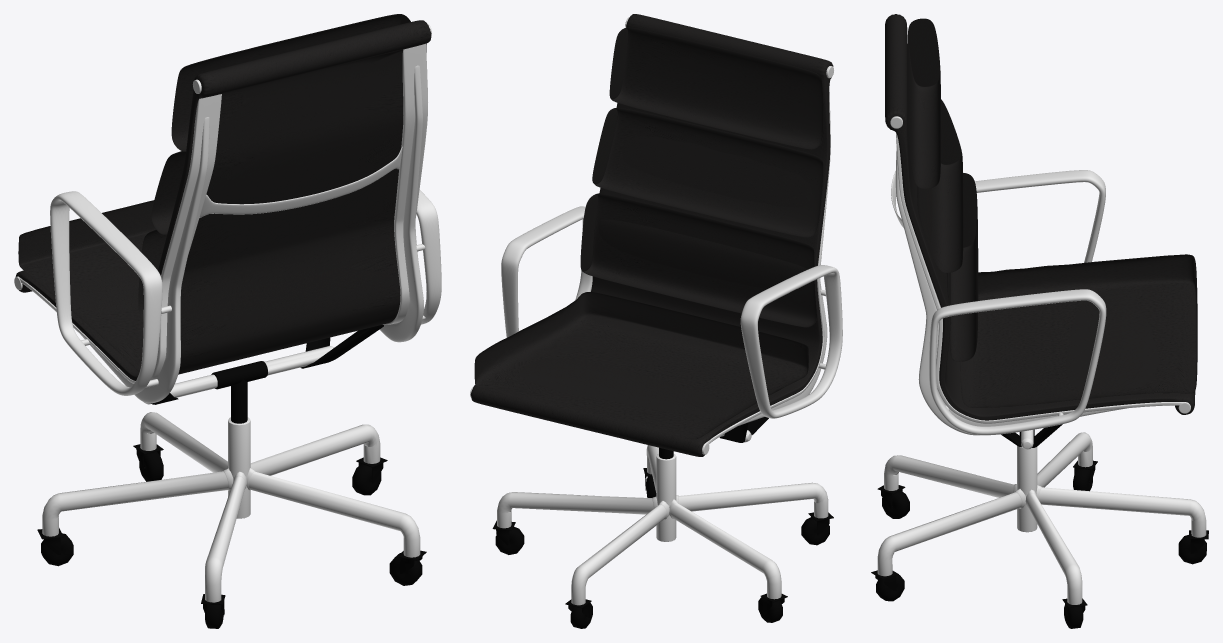
File: office_chair-j_CjM3ZN.glb
3 renders of one model, left to right at view 1: azimuth 30°, elevation 25°; view 2: azimuth 150°, elevation 25°; view 3: azimuth 270°, elevation 25°, orthographic. The views are drawn at different scales.
Visible parts, largest first — view 1: leather, metal frame, leggy, bottom frame; view 2: leather, leggy, metal frame, bottom frame; view 3: leather, leggy, metal frame, bottom frame.
Boxes of the visible parts, <box> form: leather: <box>15,14,431,380</box>; metal frame: <box>14,23,441,403</box>; leggy: <box>37,412,426,628</box>; bottom frame: <box>144,324,383,423</box>; leather: <box>471,14,833,456</box>; leggy: <box>492,445,833,628</box>; metal frame: <box>470,17,842,454</box>; bottom frame: <box>659,417,768,459</box>; leather: <box>885,14,1197,420</box>; leggy: <box>871,432,1208,628</box>; metal frame: <box>890,116,1190,435</box>; bottom frame: <box>1001,424,1062,449</box>.
Bounding box in the file's own units: 0.6167 × 0.9646 × 0.5925.
3 materials, 1 textured.
